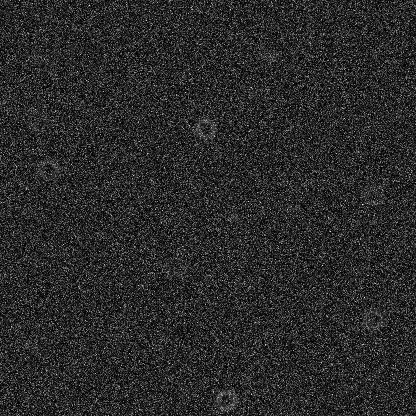Ring: (35, 157, 59, 181), (193, 116, 217, 140), (162, 254, 186, 278), (361, 306, 385, 330), (29, 334, 53, 358), (25, 107, 49, 131), (214, 388, 238, 412), (360, 183, 384, 207)
Spot: (280, 202, 296, 218), (225, 209, 241, 225), (263, 48, 279, 64), (243, 81, 259, 97)
